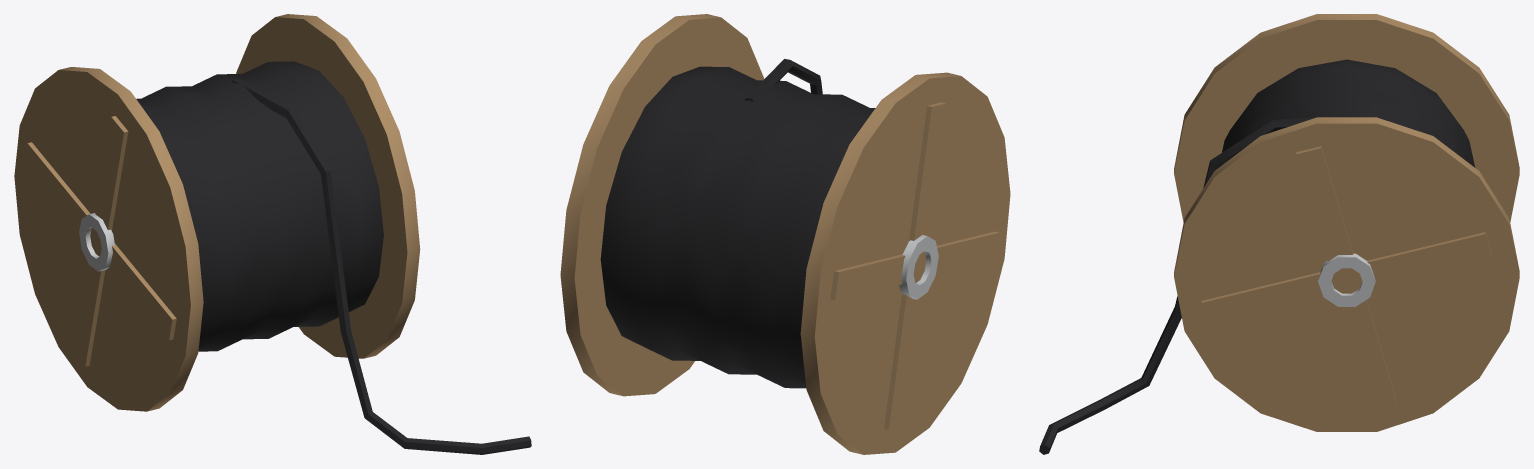
Rendered from cable_drum.glb.
3 renders of one model, left to right at view 1: azimuth 30°, elevation 25°; view 2: azimuth 150°, elevation 25°; view 3: azimuth 270°, elevation 25°, orthographic. The views are drawn at different scales.
Parts seen in each view (by area): view 1: cable_drum; view 2: cable_drum; view 3: cable_drum.
Boxes of the visible parts, x1=… form: cable_drum: x1=14, y1=14, x2=531, y2=454; cable_drum: x1=560, y1=14, x2=1010, y2=454; cable_drum: x1=1039, y1=14, x2=1519, y2=454.
Size of the model in its own units: 1.11 by 1.19 by 1.67.
